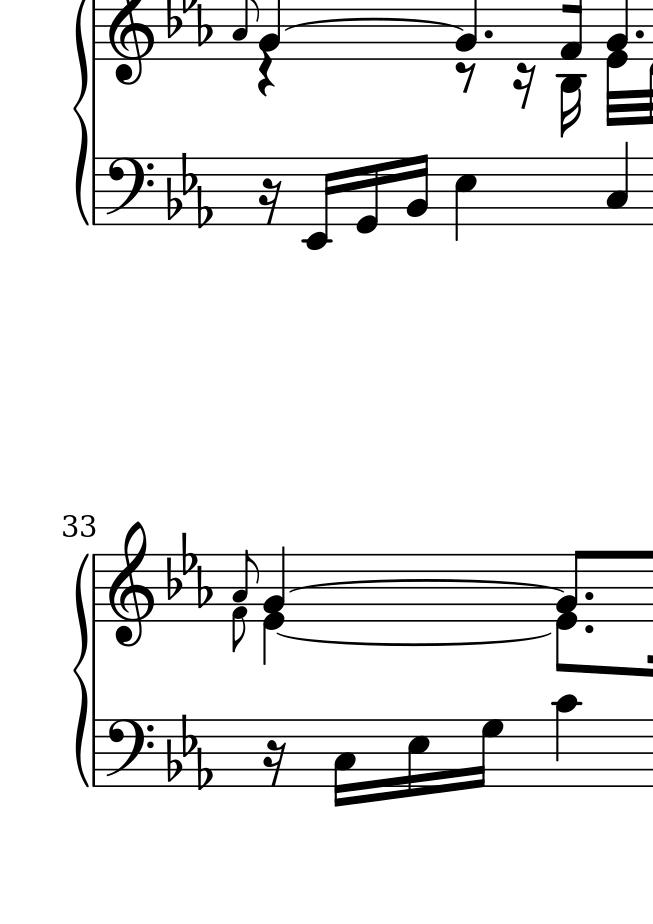16_-2: (302, 156, 338, 251)
16_0: (353, 156, 381, 236)
16_2: (404, 153, 430, 227)
16_3: (332, 718, 356, 808)
16_5: (405, 717, 430, 799)
16_7: (471, 717, 504, 791)
3: (79, 513, 98, 539), (61, 513, 78, 538)
4_0_2: (261, 546, 287, 664)
4_10: (551, 694, 581, 790)
4_3: (604, 141, 631, 227)
4_5: (452, 156, 478, 243)
8_0_2: (555, 549, 587, 674)
Brace: (71, 1, 89, 222), (73, 550, 90, 784)
E_F: (165, 528, 211, 611), (165, 711, 212, 792), (165, 150, 213, 229)
Fclef: (104, 155, 154, 227), (104, 717, 154, 789)
Gclef: (106, 520, 154, 648)
Rests16: (257, 176, 282, 227), (511, 62, 538, 109), (262, 738, 287, 788)
Rests8: (453, 60, 478, 94)
Single_barline: (89, 553, 102, 623), (89, 721, 102, 784), (90, 157, 102, 223), (89, 1, 102, 61)
Slur: (275, 631, 554, 647), (291, 578, 564, 594), (280, 17, 468, 32)
dot: (634, 25, 646, 42), (583, 622, 596, 635), (481, 28, 495, 40), (583, 590, 595, 602)
